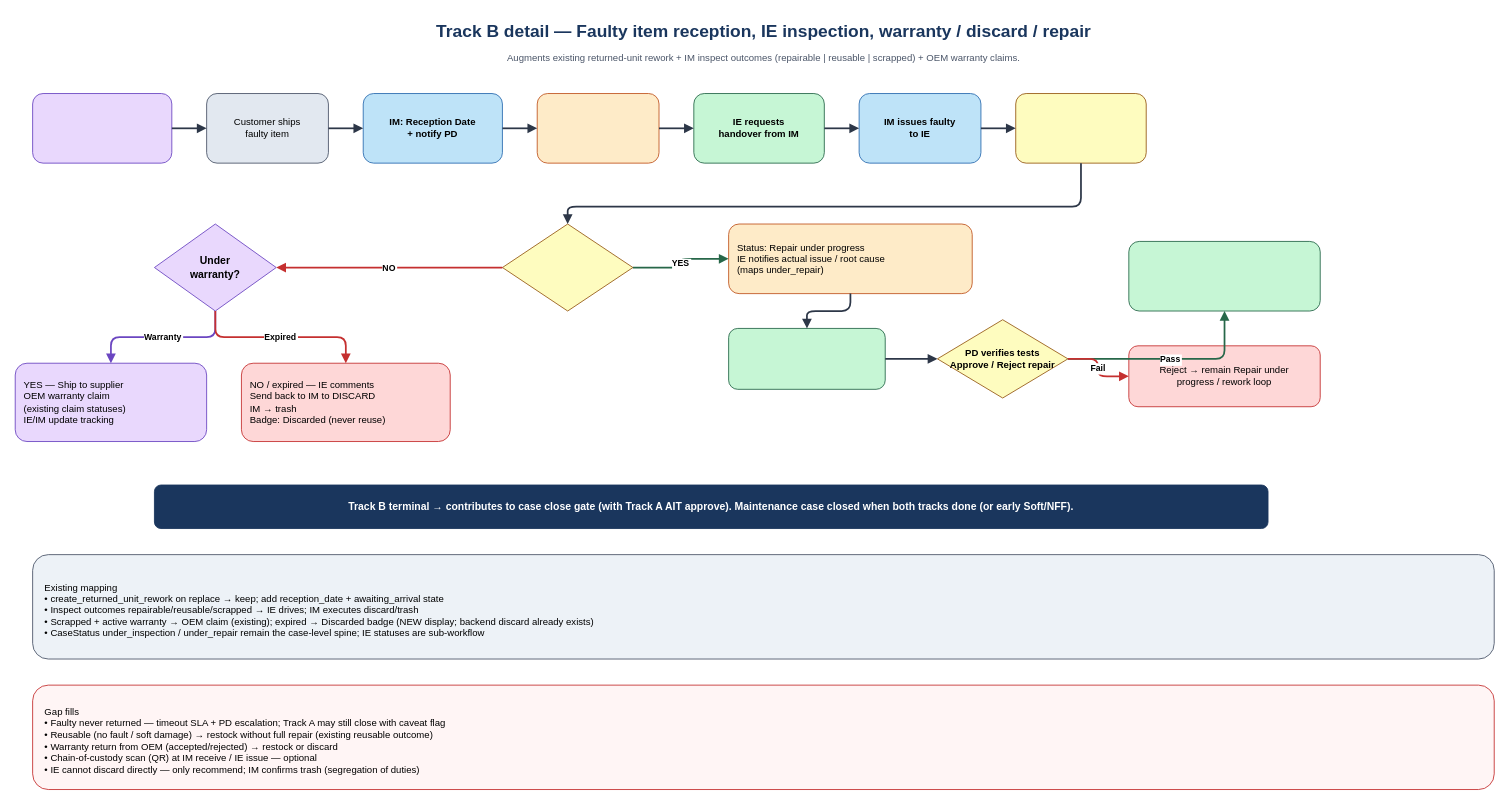
Some shapes in this 1509 by 805 pixel diagram are drawn without their labels. Here are the shapes that lost their labels. From the top down, the box of each, then its label:
(32, 93, 172, 163): Faulty auto-queued when replacement shipped (Track A)
(536, 93, 659, 163): PD assigns IE
(1015, 93, 1146, 163): Status: Inspection under process
(502, 223, 633, 311): Repairable?
(1128, 241, 1320, 311): Approve → mark repaired + test reports → IM restock for future projects
(728, 328, 885, 389): IE completes repair + test evidence
